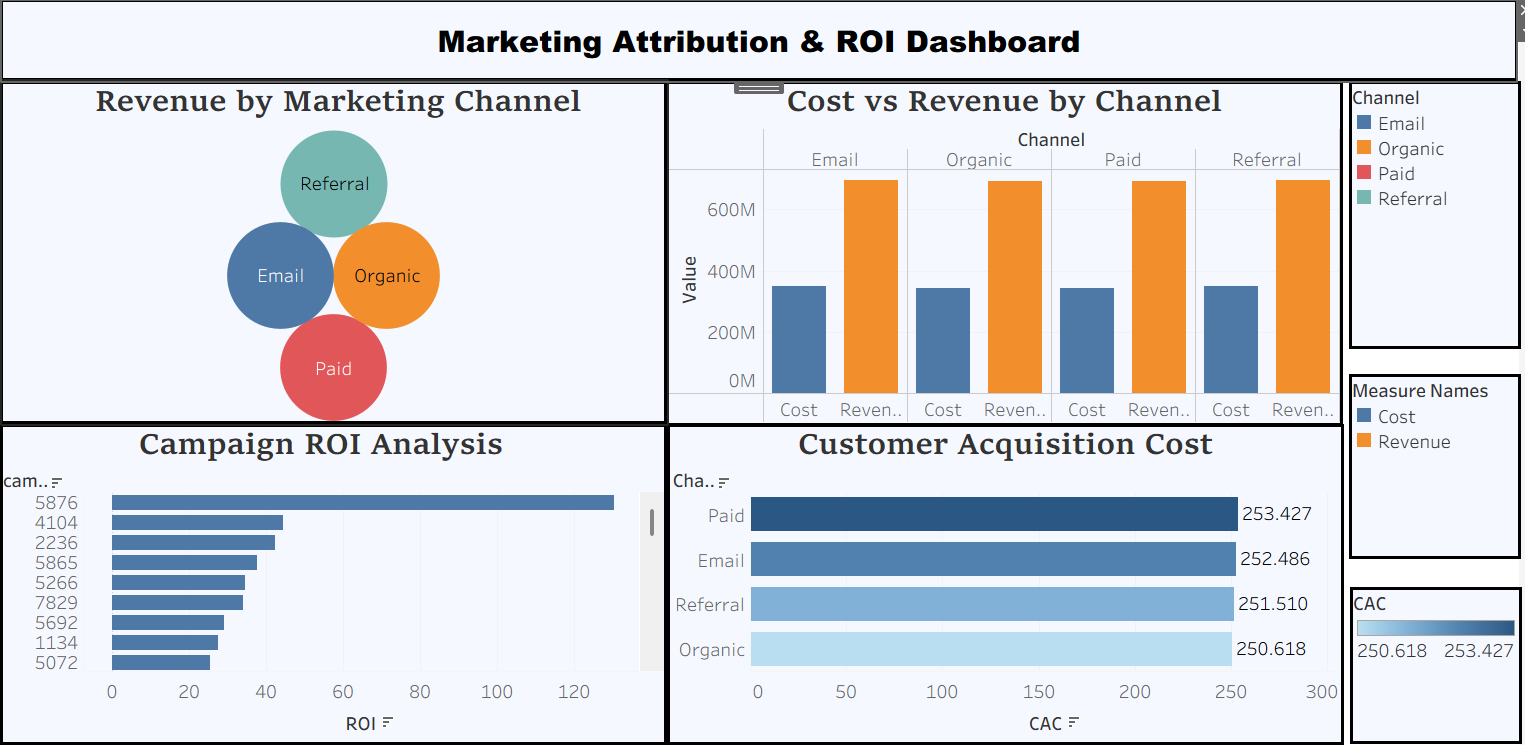

The page's visual inventory and layout, read from the dashboard file:
{"tool":"tableau","page":{"name":"MARKETING ATTRIBUTION & ROI","canvas":[1000,1000],"units":"permille","ordinal":2},"visuals":[{"type":"worksheet","title":" Revenue by Marketing Channel","mark":"Circle","box":[0.7,108.4,438.8,459.2]},{"type":"worksheet","title":"Cost vs Revenue by Channel","mark":"Automatic","cols":["channel"],"box":[438.8,108.4,445.4,461.9]},{"type":"legend","title":" Revenue by Marketing Channel","param":"[federated.1ojs7vo06ltto31a78pu50yylxy6].[none:channel:nk]","box":[888.2,108.4,113.2,358.8]},{"type":"legend","title":"Cost vs Revenue by Channel","param":"[federated.1ojs7vo06ltto31a78pu50yylxy6].[:Measure Names]","box":[888.2,500.7,113.2,247.7]},{"type":"worksheet","title":"Campaign ROI Analysis","mark":"Automatic","rows":["campaign_id (Marketing!Campaign!Performance)"],"cols":["Calculation_756604772922109955"],"box":[0.7,567.6,438.8,429.7]},{"type":"worksheet","title":"Customer Acquisition Cost","mark":"Automatic","rows":["channel"],"cols":["Calculation_756604772922253316"],"box":[439.5,567.6,445.4,429.7]},{"type":"legend","title":"Customer Acquisition Cost","param":"[federated.1ojs7vo06ltto31a78pu50yylxy6].[usr:Calculation_756604772922253316:qk]","box":[888.8,785.8,113.2,210.2]}]}

Visuals, with their boxes on the dashboard's canvas, which has no fixed pixel size, in thousandths of its width and height (x1, y1, x2, y2). These are canvas units, not pixel positions in the 1525x745 screenshot, which may show the page scaled, cropped or inside an application window:
" Revenue by Marketing Channel" worksheet (Circle marks): x1=1, y1=108, x2=440, y2=568
"Cost vs Revenue by Channel" worksheet: x1=439, y1=108, x2=884, y2=570
" Revenue by Marketing Channel" legend: x1=888, y1=108, x2=1001, y2=467
"Cost vs Revenue by Channel" legend: x1=888, y1=501, x2=1001, y2=748
"Campaign ROI Analysis" worksheet: x1=1, y1=568, x2=440, y2=997
"Customer Acquisition Cost" worksheet: x1=440, y1=568, x2=885, y2=997
"Customer Acquisition Cost" legend: x1=889, y1=786, x2=1002, y2=996
